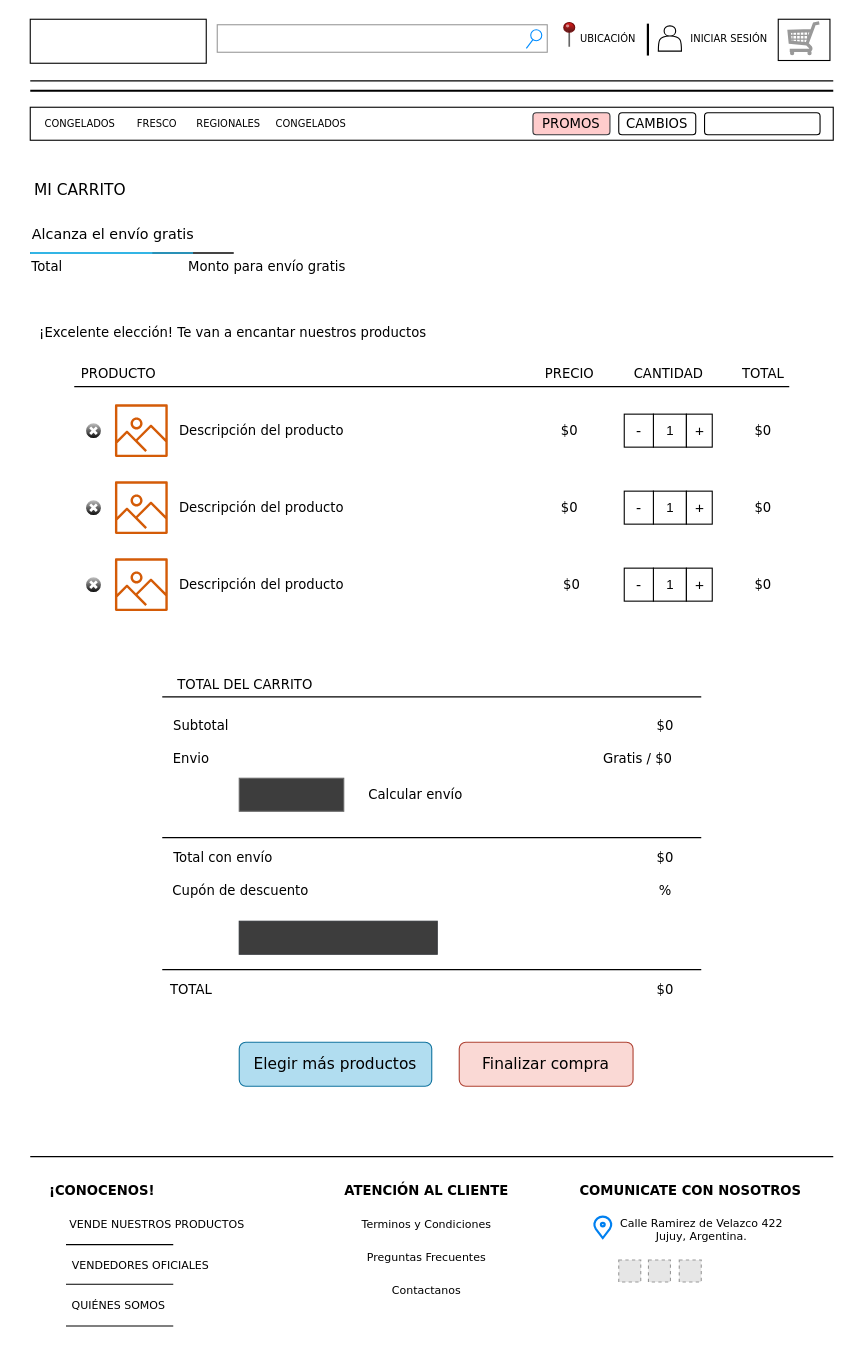
This 853x1350 diagram has some shape labels left out. Grey dashed boxes stand in for pictures. The shapes that lost their labels are listed below. From the top down, each one's centre as x and y in pixels, then its label:
At point 117,40: "LOGO".
At point 381,38: "Search".
At point 761,123: "ZONA DE ENVÍO".
At point 291,794: "Código Postal".
At point 337,937: "Código de descuento".
